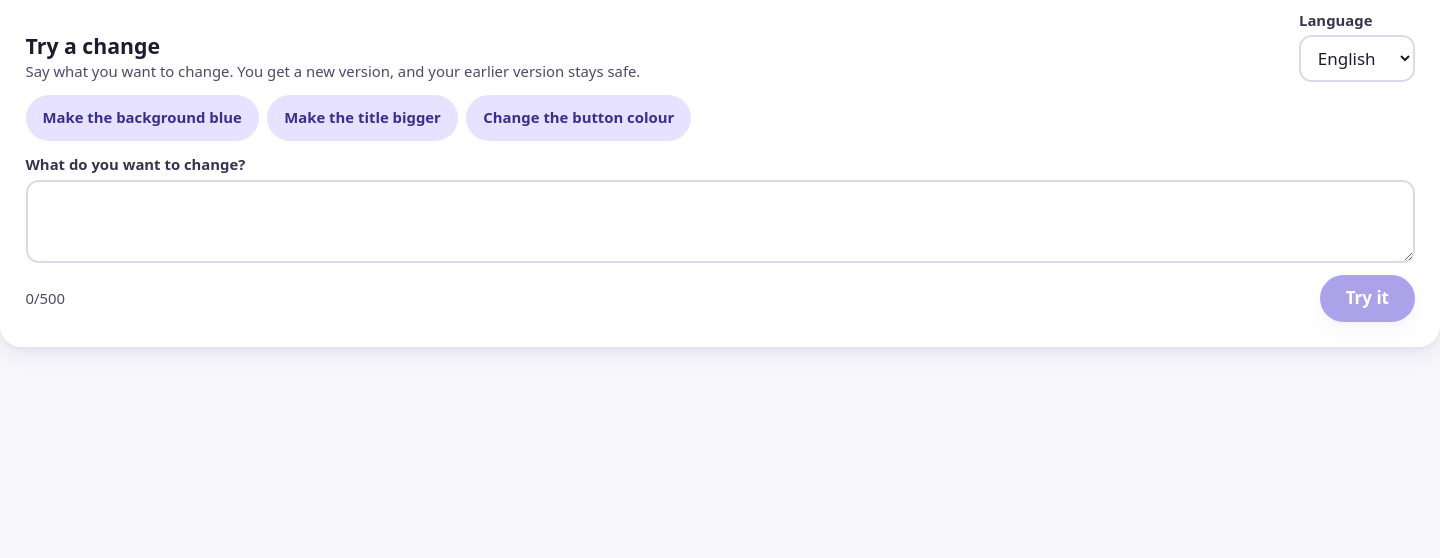
Test: ExperimentPanel › starts from an idea chip and writes the summary in the chosen language
This screenshot has width=1440, height=558.
Select "Hinglish" in the dropdown labelled "Language" at (1357, 58), box [1299,35,1414,82]
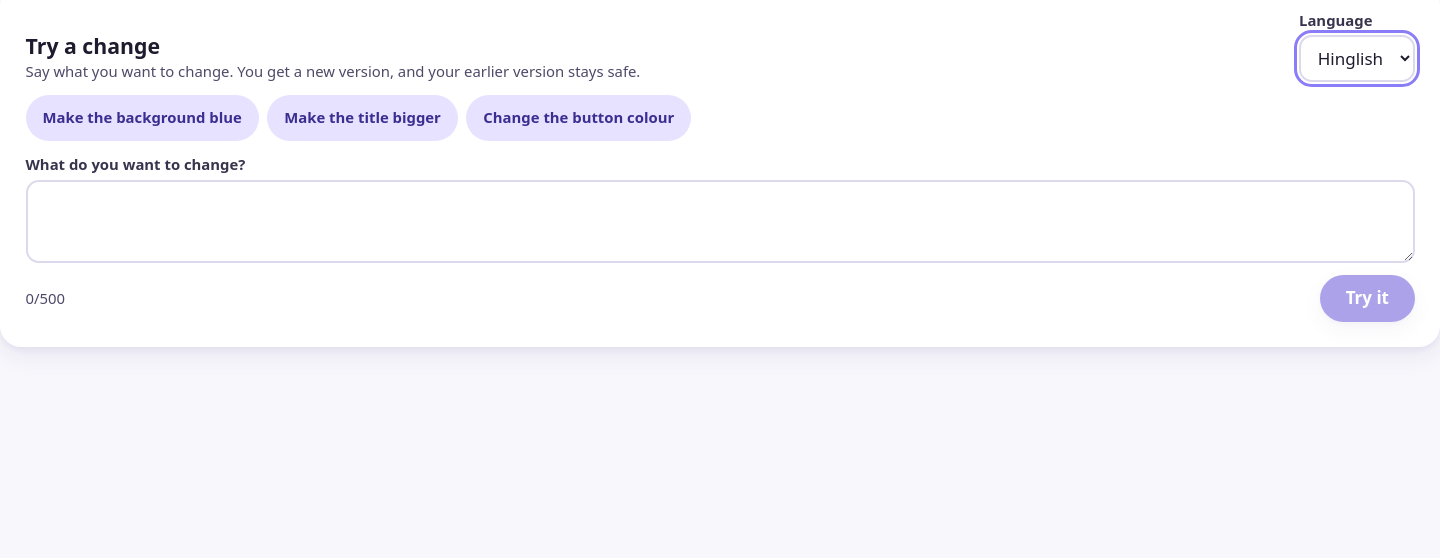
Click the button "Make the title bigger" at (363, 118), box [267,94,458,141]
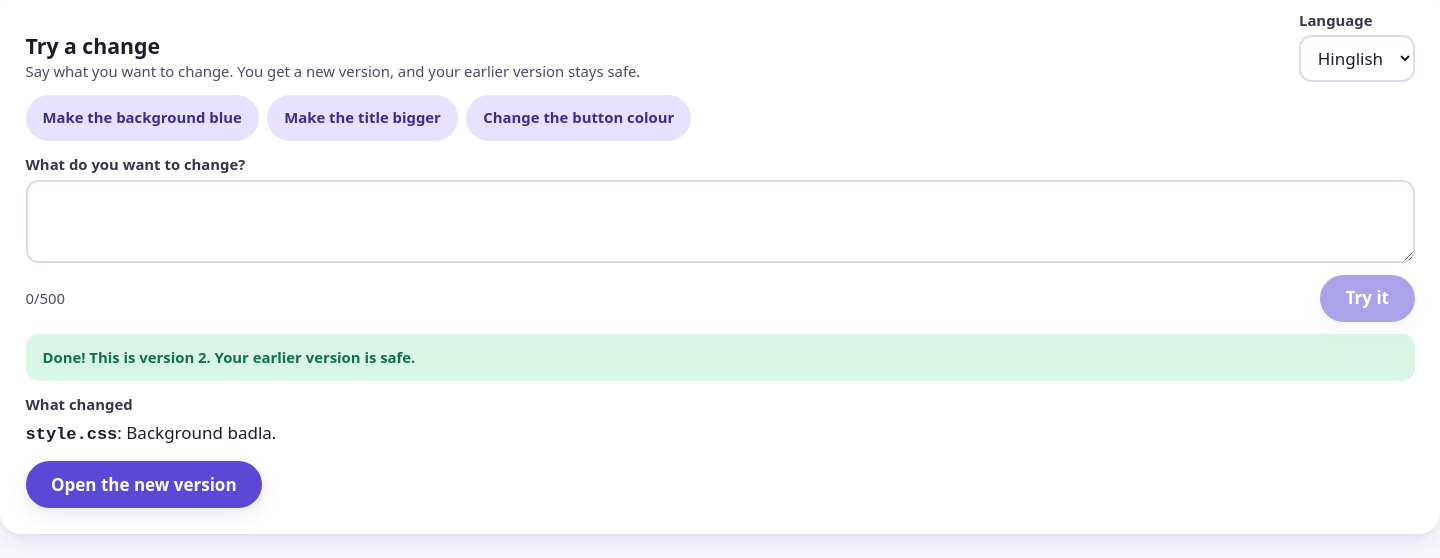
Check: the list item "style.css: Background badla." is shown, box [26,421,276,444]
